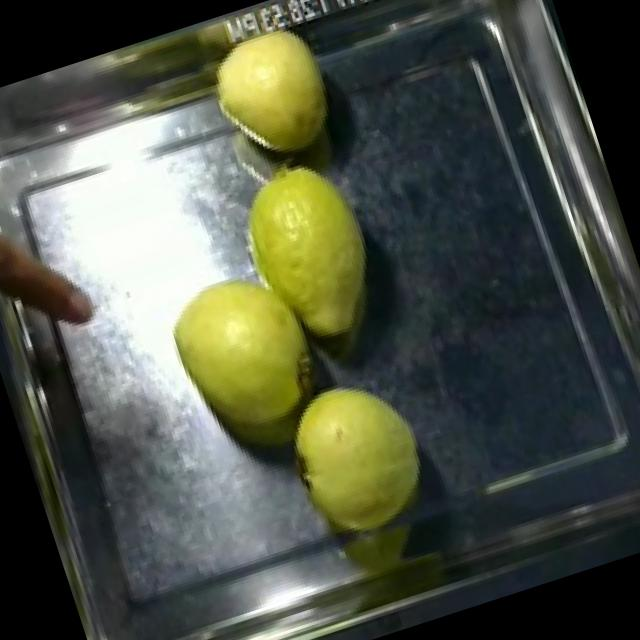Fruit: (146, 246, 350, 478), (214, 138, 400, 362), (266, 358, 450, 554), (186, 0, 355, 179)
